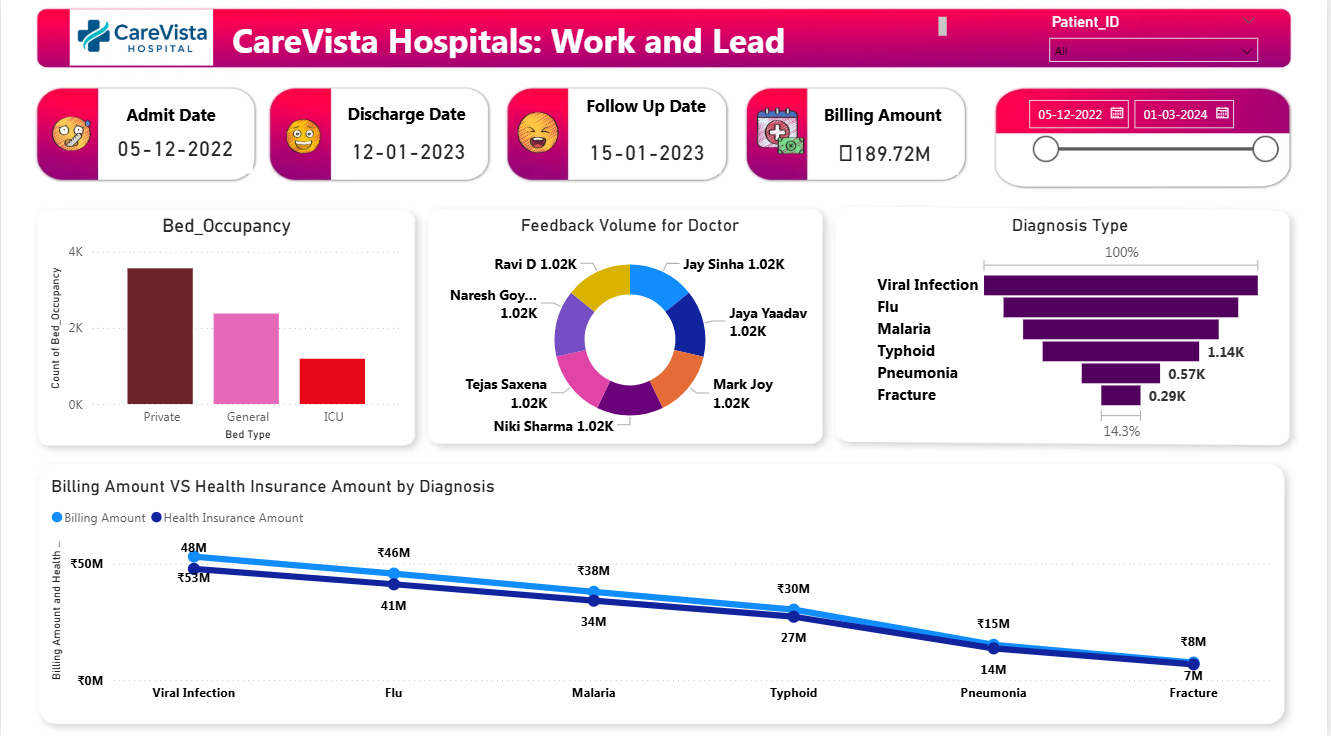

The dashboard page shown, as its layout file describes it:
{"tool":"powerbi","page":{"name":"Page 1","canvas":[1280,720],"ordinal":0},"visuals":[{"type":"textbox","box":[218.4,18.1,699.7,49.5],"z":0},{"type":"slicer","fields":{"Values":["Sheet1.Patient_ID"]},"box":[1001.1,14.4,222.2,57.8],"z":1000},{"type":"card","fields":{"Values":["Sheet1.Admit_Date"]},"box":[94.3,125.7,148.6,48.6],"z":2000},{"type":"textbox","box":[116.3,101.1,104.2,31.6],"z":3000},{"type":"textbox","box":[329.5,99.5,135.5,33.2],"z":4000},{"type":"card","fields":{"Values":["Sheet1.Discharge_Date"]},"box":[322.3,133.2,142.7,41.4],"z":5000},{"type":"textbox","box":[560,92.4,135.3,33.5],"z":6000},{"type":"card","fields":{"Values":["Sheet1.Followup Date"]},"box":[552.9,132.9,142.4,41.8],"z":7000},{"type":"textbox","box":[789.1,100.9,135.5,32.7],"z":8000},{"type":"card","fields":{"Values":["Sheet1.Billing Amount"]},"box":[781.8,133.6,142.7,41.8],"z":9000},{"type":"slicer","fields":{"Values":["Sheet1.Admit_Date"]},"box":[980,92.5,263.8,90],"z":10000},{"type":"columnChart","title":"Bed_Occupancy","fields":{"Category":["Sheet1.Bed_Occupancy"],"Y":["Sheet1.Bed_Occupancy"]},"box":[42.6,213.2,351.1,223.2],"z":11000},{"type":"donutChart","title":"Feedback Volume for Doctor","fields":{"Y":["Sheet1.Doctor"],"Category":["Sheet1.Doctor"]},"box":[431.4,213.6,350.7,222.1],"z":12000},{"type":"funnel","title":"Diagnosis Type","fields":{"Category":["Sheet1.Diagnosis"],"Y":["Sheet1.Diagnosis"]},"box":[840.8,213.8,382.3,223.1],"z":13000},{"type":"lineChart","title":"Billing Amount VS Health Insurance Amount by Diagnosis","fields":{"Y":["Sheet1.Billing Amount","Sheet1.Health Insurance Amount"],"Category":["Sheet1.Diagnosis"]},"box":[43.3,465.6,1190,227.8],"z":14000},{"type":"image","box":[41,77.2,53.1,120.6],"z":15000},{"type":"image","box":[260.6,115.8,61.5,45.8],"z":16000},{"type":"image","box":[483.8,108.6,68.8,53.1],"z":17000},{"type":"image","box":[719,103.8,62.7,60.3],"z":18000},{"type":"image","box":[61.5,8.4,148.4,68.8],"z":19000}]}

Visuals, with their boxes in screenshot pixels (x1, y1, x2, y2), scaled from the page's 1280x720 canvas onto the 1331x736 screenshot:
textbox: (x1=227, y1=19, x2=955, y2=69)
slicer - Sheet1.Patient_ID: (x1=1041, y1=15, x2=1272, y2=74)
card - Sheet1.Admit_Date: (x1=98, y1=128, x2=253, y2=178)
textbox: (x1=121, y1=103, x2=229, y2=136)
textbox: (x1=343, y1=102, x2=484, y2=136)
card - Sheet1.Discharge_Date: (x1=335, y1=136, x2=484, y2=178)
textbox: (x1=582, y1=94, x2=723, y2=129)
card - Sheet1.Followup Date: (x1=575, y1=136, x2=723, y2=179)
textbox: (x1=821, y1=103, x2=961, y2=137)
card - Sheet1.Billing Amount: (x1=813, y1=137, x2=961, y2=179)
slicer - Sheet1.Admit_Date: (x1=1019, y1=95, x2=1293, y2=187)
"Bed_Occupancy" columnChart: (x1=44, y1=218, x2=409, y2=446)
"Feedback Volume for Doctor" donutChart: (x1=449, y1=218, x2=813, y2=445)
"Diagnosis Type" funnel: (x1=874, y1=219, x2=1272, y2=447)
"Billing Amount VS Health Insurance Amount by Diagnosis" lineChart: (x1=45, y1=476, x2=1282, y2=709)
image: (x1=43, y1=79, x2=98, y2=202)
image: (x1=271, y1=118, x2=335, y2=165)
image: (x1=503, y1=111, x2=575, y2=165)
image: (x1=748, y1=106, x2=813, y2=168)
image: (x1=64, y1=9, x2=218, y2=79)
